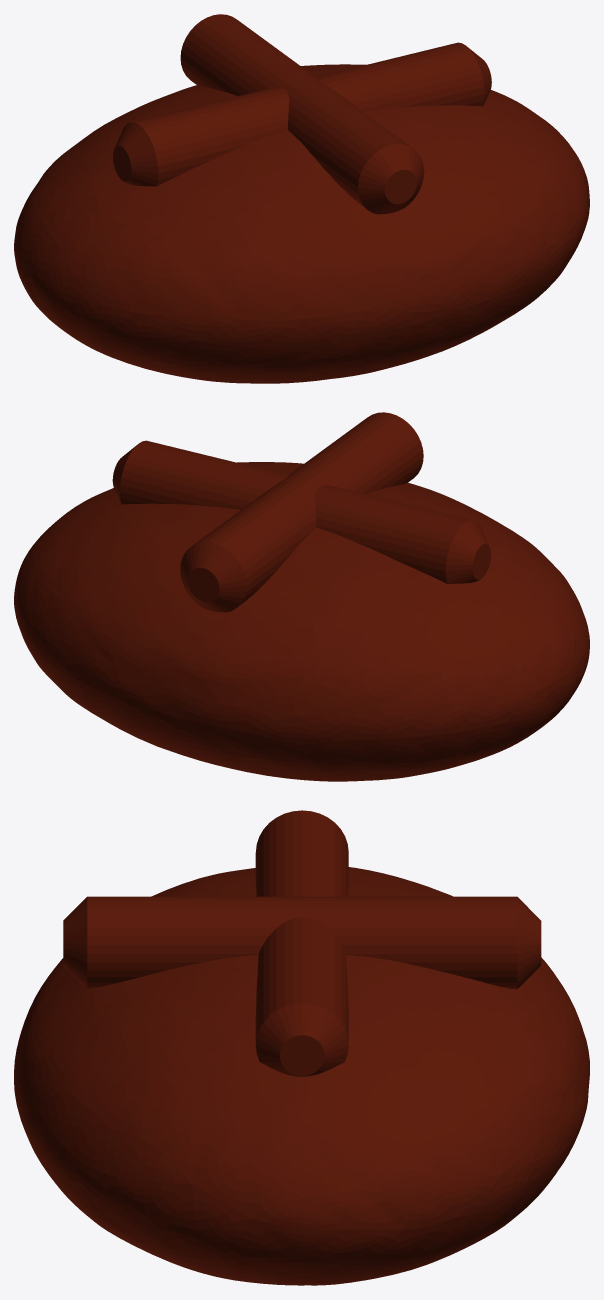
File: bread.obj
The picture shows the model from 3 angles, top to bottom: view 1: azimuth 30°, elevation 25°; view 2: azimuth 150°, elevation 25°; view 3: azimuth 270°, elevation 25°; orthographic projection. The views are drawn at different scales.
Visible parts, largest first — view 1: Bread, Bread_hueso_X, Bread_hueso_Y; view 2: Bread, Bread_hueso_X, Bread_hueso_Y; view 3: Bread, Bread_hueso_Y, Bread_hueso_X.
Boxes of the visible parts, <box> form: Bread: <box>14,64,589,383</box>; Bread_hueso_X: <box>113,42,491,186</box>; Bread_hueso_Y: <box>180,14,424,214</box>; Bread: <box>14,462,589,781</box>; Bread_hueso_X: <box>112,440,490,583</box>; Bread_hueso_Y: <box>180,412,423,612</box>; Bread: <box>14,867,589,1285</box>; Bread_hueso_Y: <box>63,896,541,989</box>; Bread_hueso_X: <box>255,810,348,1076</box>.
Bounding box in the file's own units: 0.5536 × 0.2634 × 0.4339.
